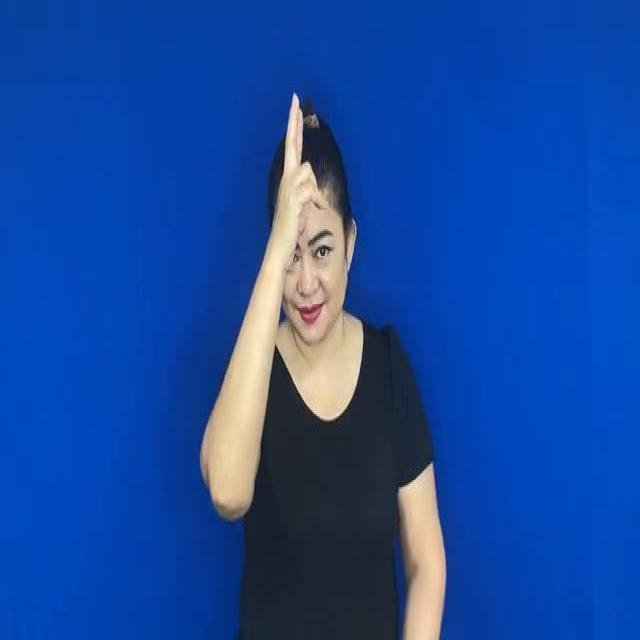crab: (261, 88, 325, 250)
